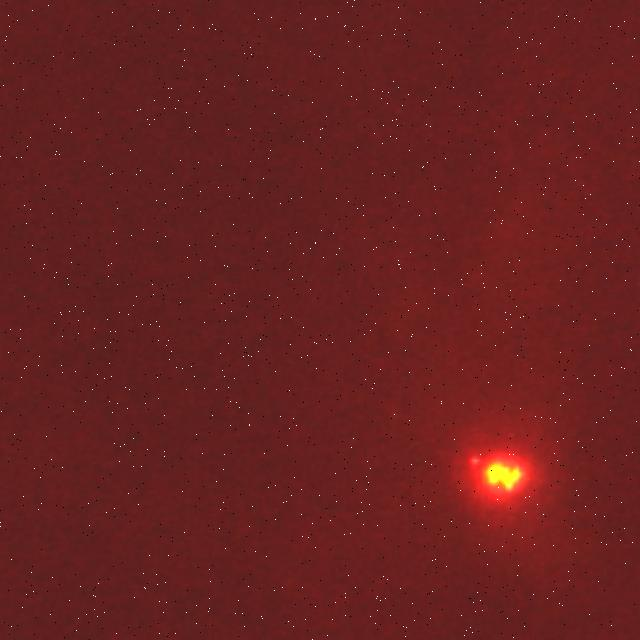Film: (482, 462, 522, 492)
Fragment: (466, 454, 482, 468)
